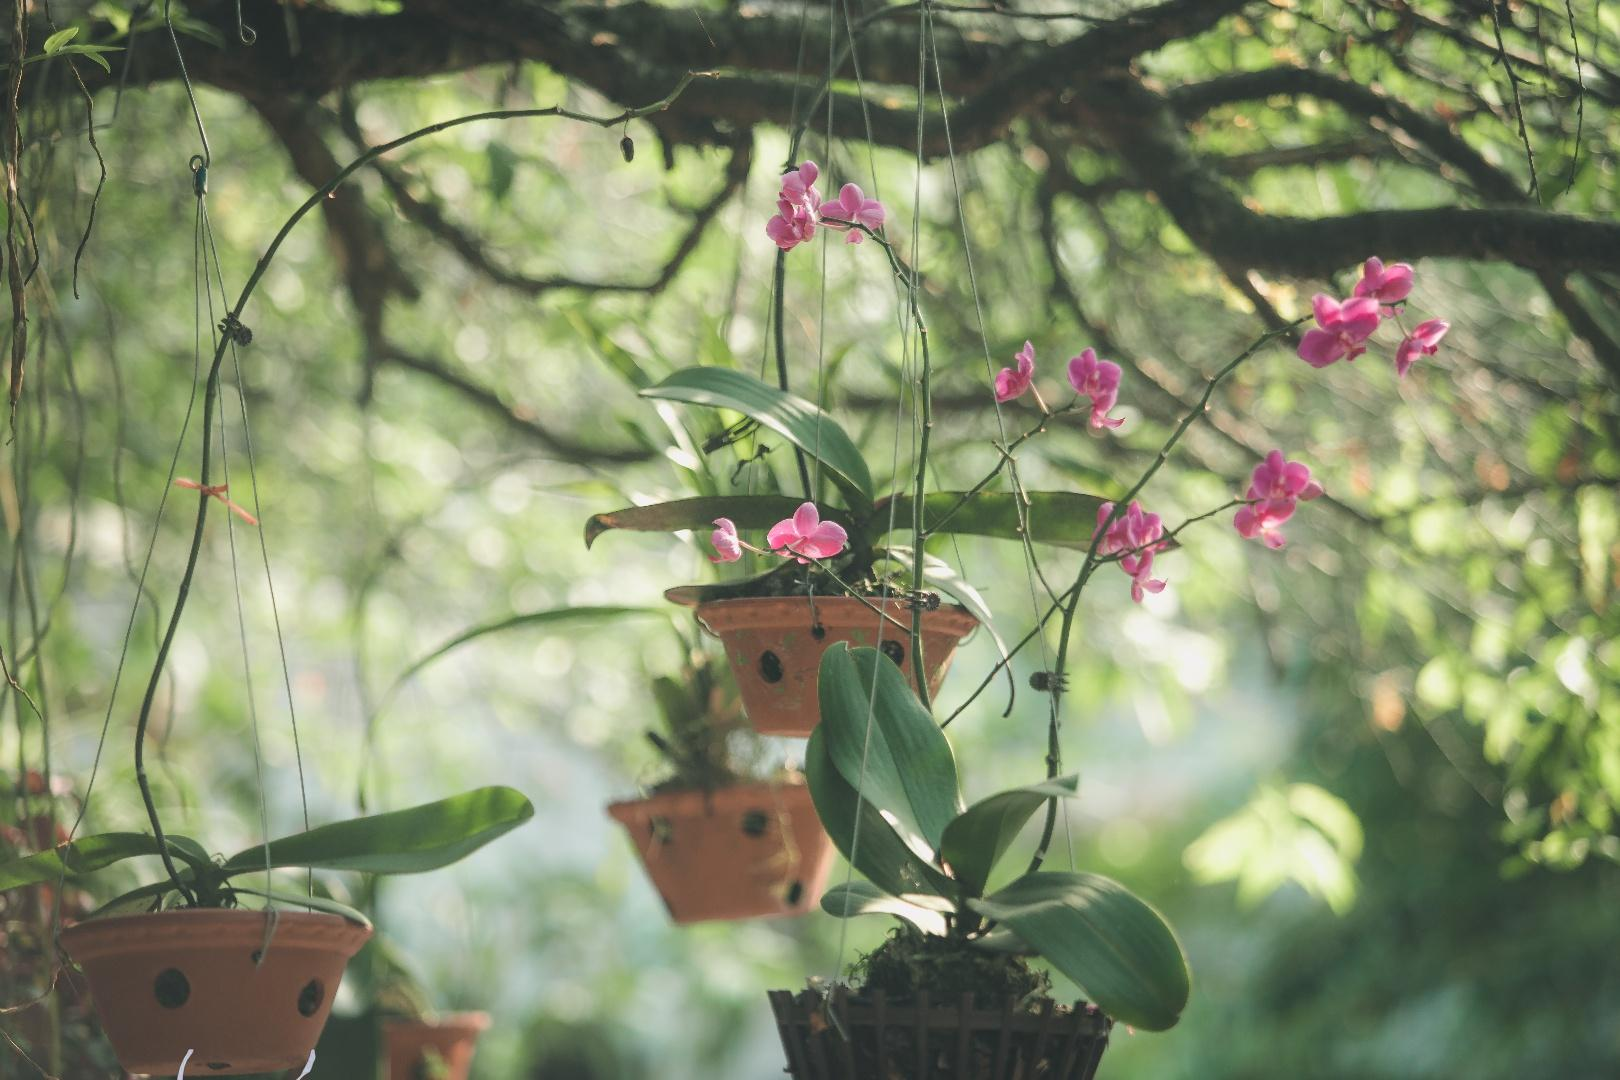trash: (133, 1046, 335, 1080)
